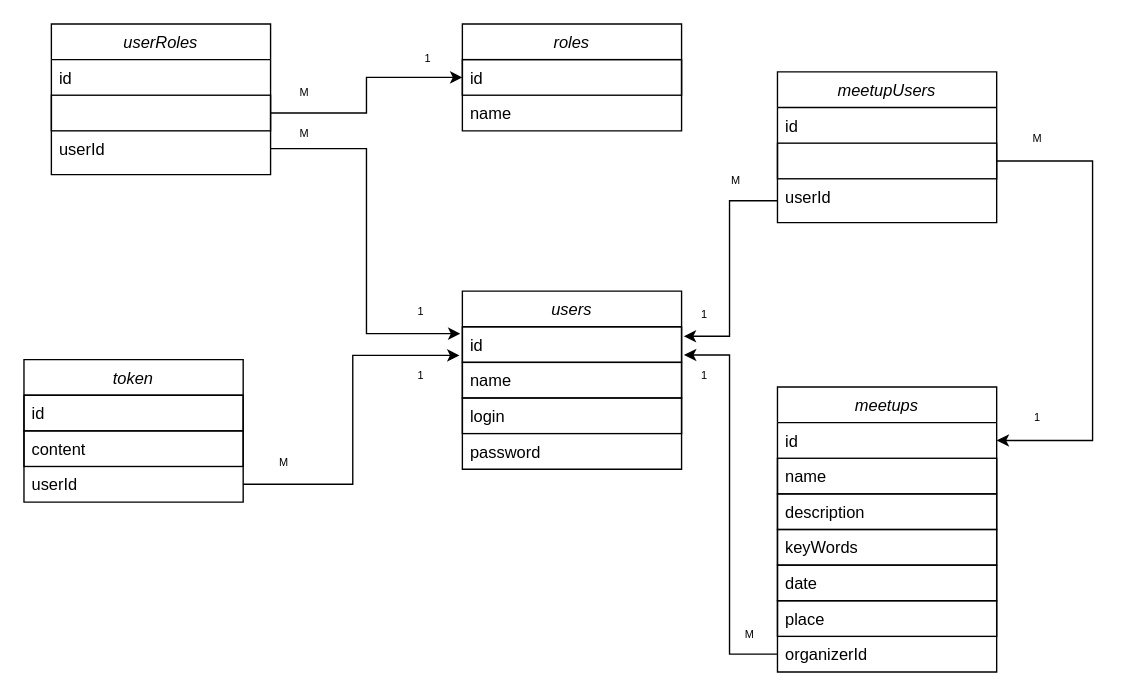
Image size: 1128x700. Some labels were removed from this diagram. Each missing label, with the centre of its shape:
"meetupId" goes at pixel 886 160.
"roleId" goes at pixel 160 112.
